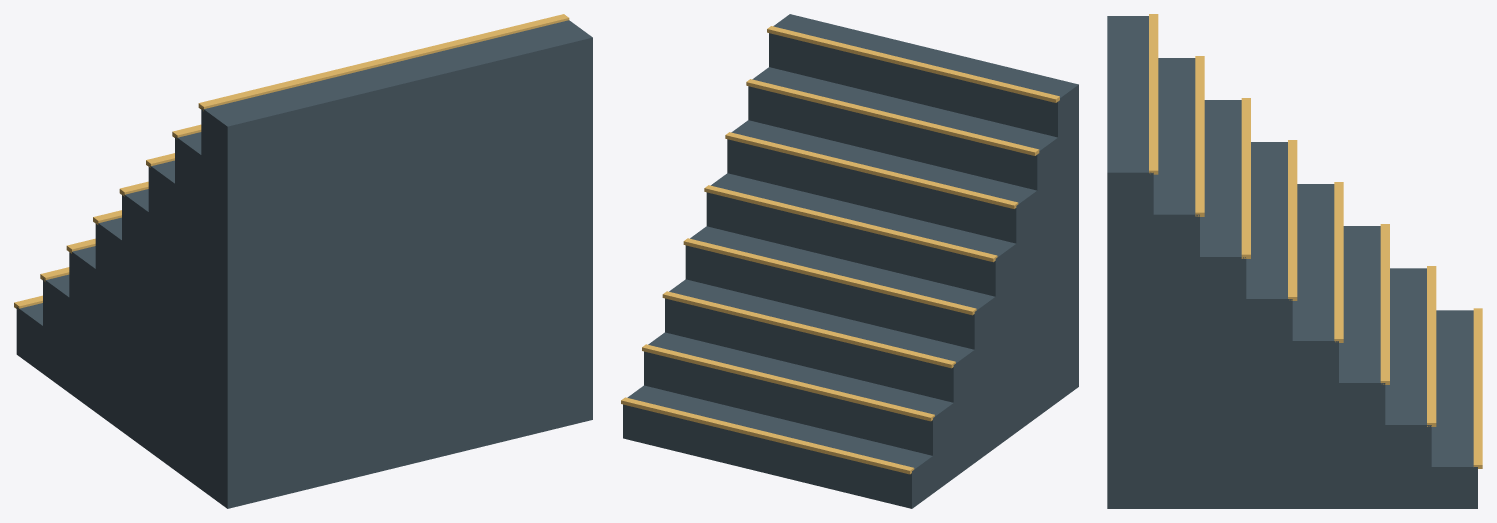
File: terrain-stairs.glb
3 renders of one model, left to right at view 1: azimuth 30°, elevation 25°; view 2: azimuth 150°, elevation 25°; view 3: azimuth 270°, elevation 25°, orthographic. The views are drawn at different scales.
Visible parts, largest first — view 1: terrain-stairs; view 2: terrain-stairs; view 3: terrain-stairs.
Part boxes in pixels (left/top/right/bottom): terrain-stairs: left=14, top=14, right=592, bottom=508; terrain-stairs: left=621, top=14, right=1078, bottom=508; terrain-stairs: left=1107, top=14, right=1482, bottom=508.
Size of the model in its own units: 1 by 1.01 by 1.01.
